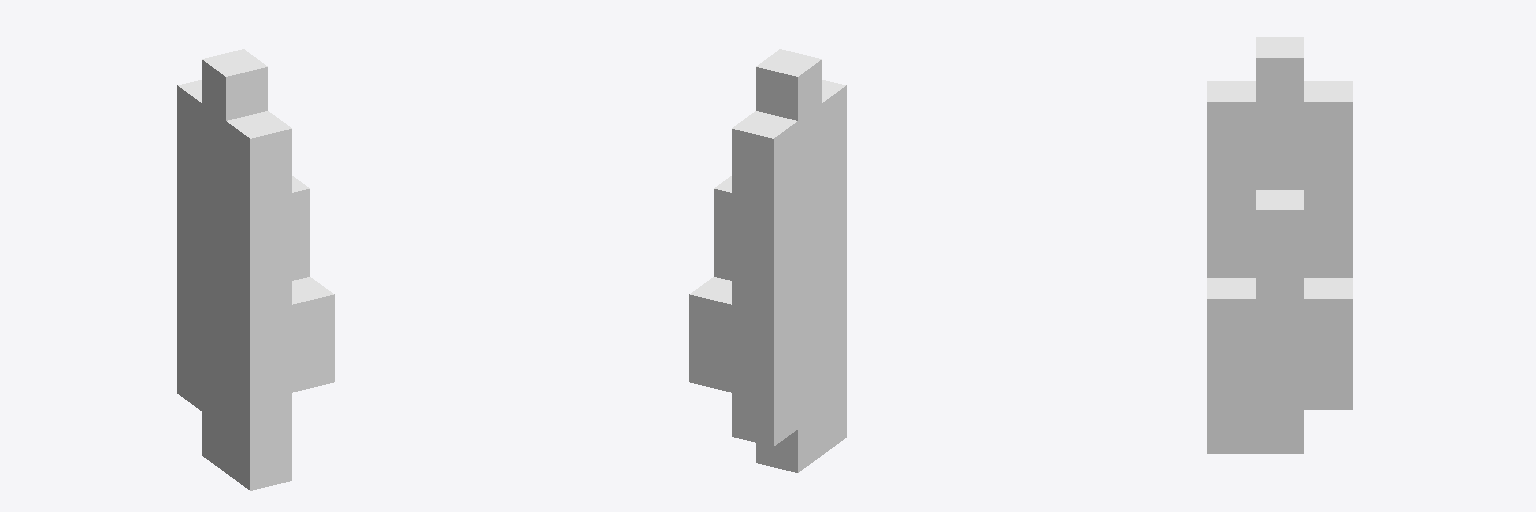
File: Arm-L.obj
The picture shows the model from 3 angles: view 1: azimuth 30°, elevation 25°; view 2: azimuth 150°, elevation 25°; view 3: azimuth 270°, elevation 25°; orthographic projection.
Parts seen in each view (by area): view 1: object 1; view 2: object 1; view 3: object 1.
Part boxes in pixels (left/top/right/bottom): object 1: left=177, top=49, right=334, bottom=490; object 1: left=689, top=49, right=846, bottom=472; object 1: left=1207, top=37, right=1352, bottom=453.
Bounding box in the file's own units: 0.2 × 0.9 × 0.3.